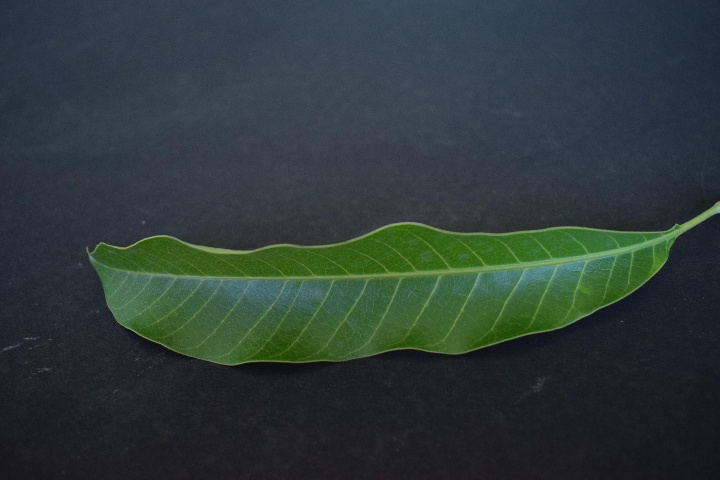healthy: (91, 216, 672, 362)
